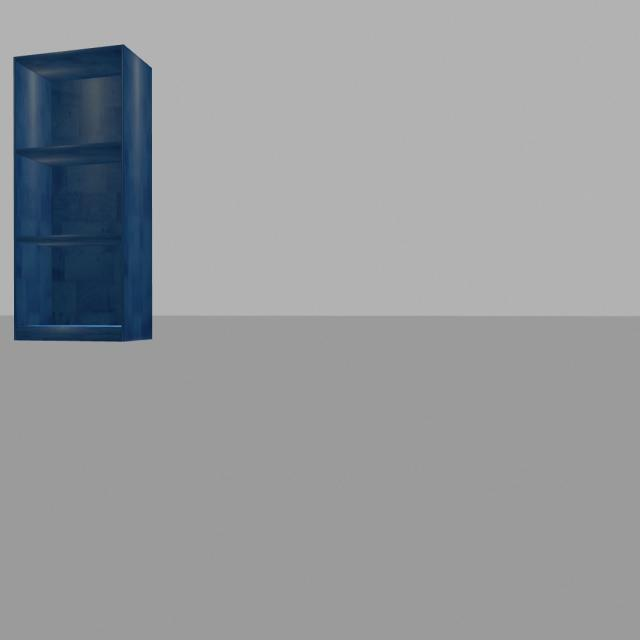shelf: (0, 36, 159, 353)
